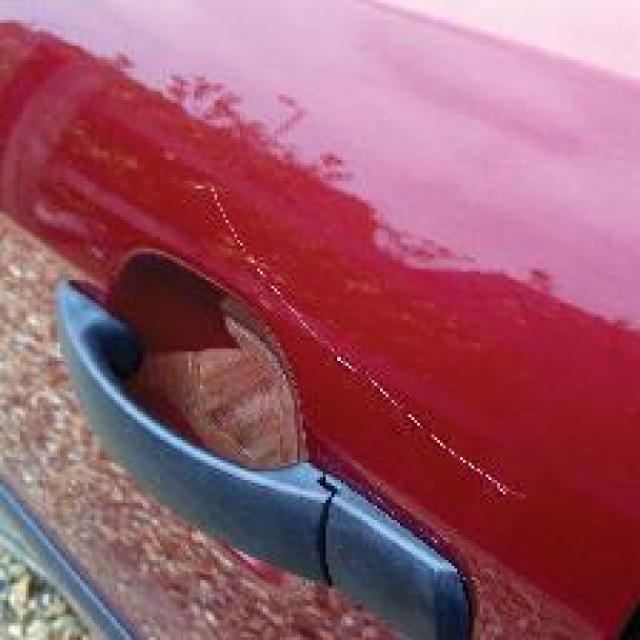damaged: (192, 179, 537, 532)
